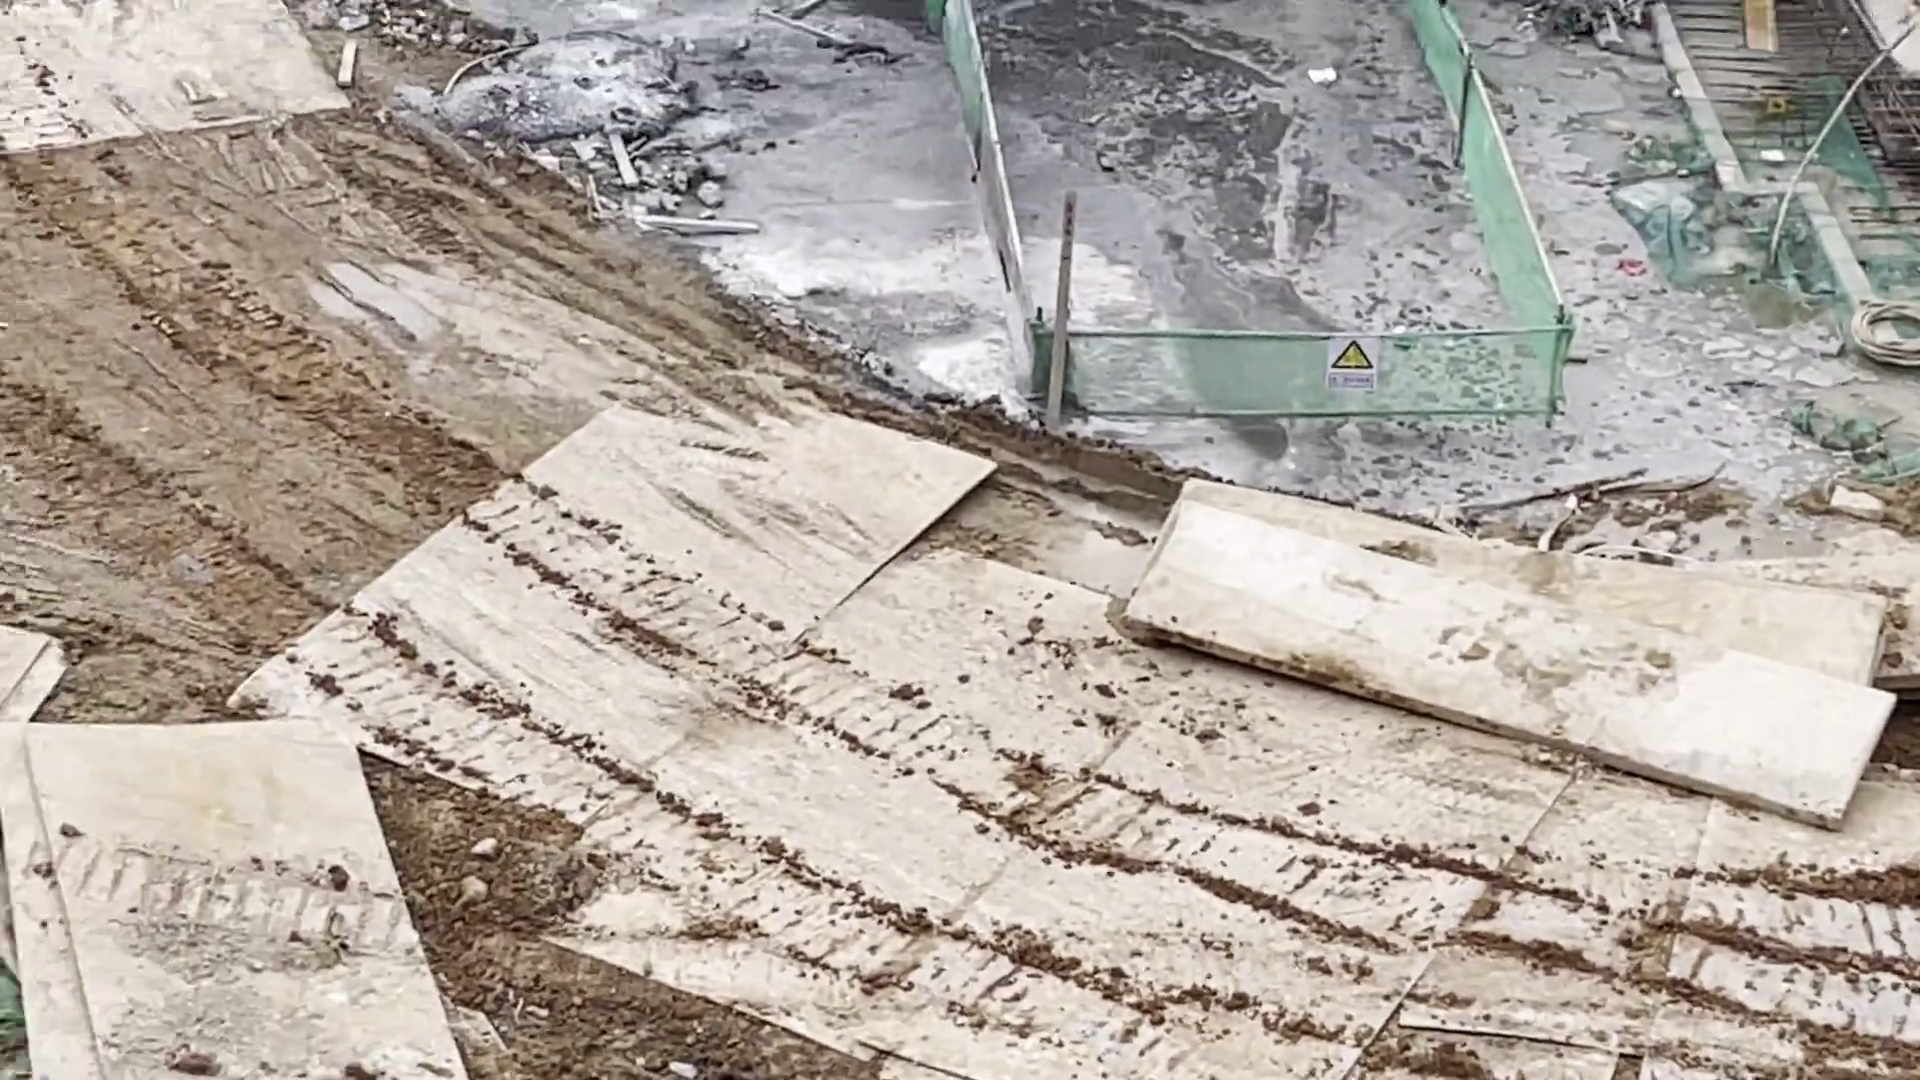slogan: (1327, 334, 1375, 386)
